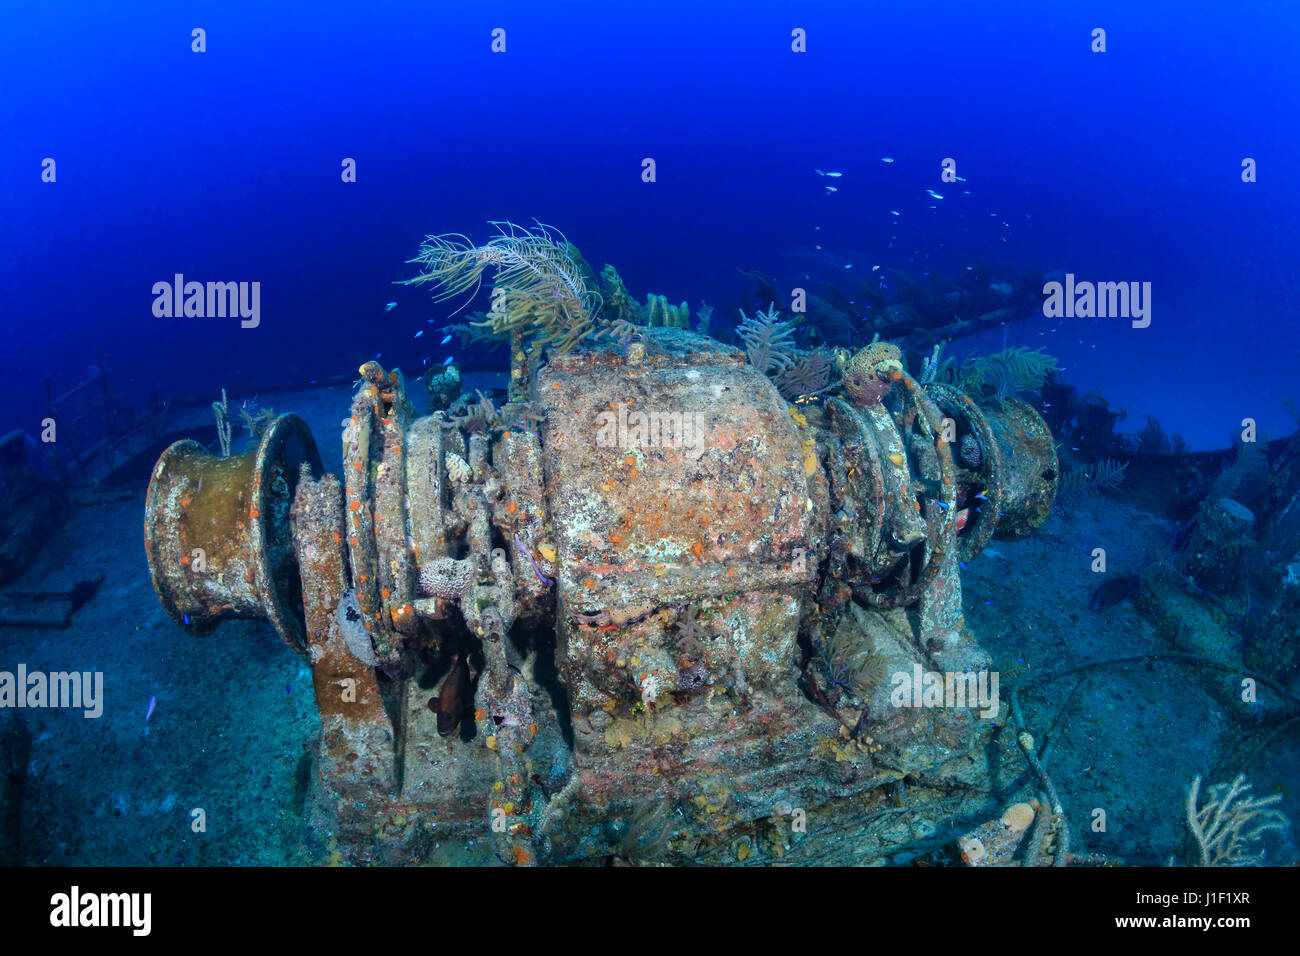Metal: (142, 322, 1089, 863)
